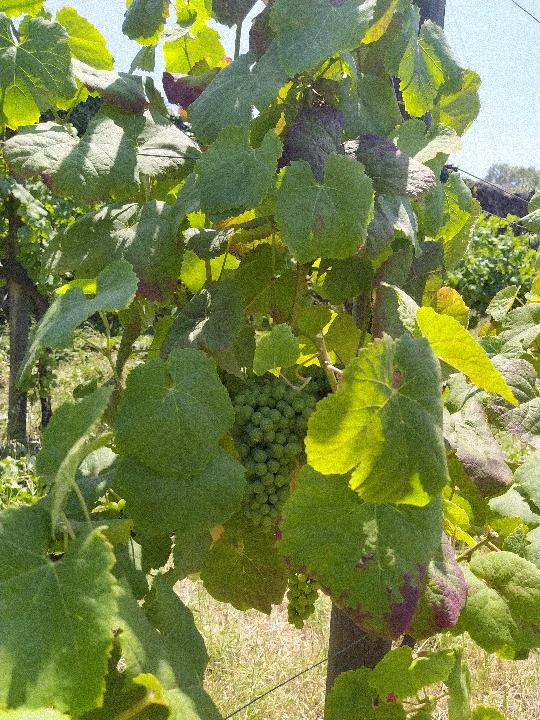grape: (225, 373, 320, 535)
